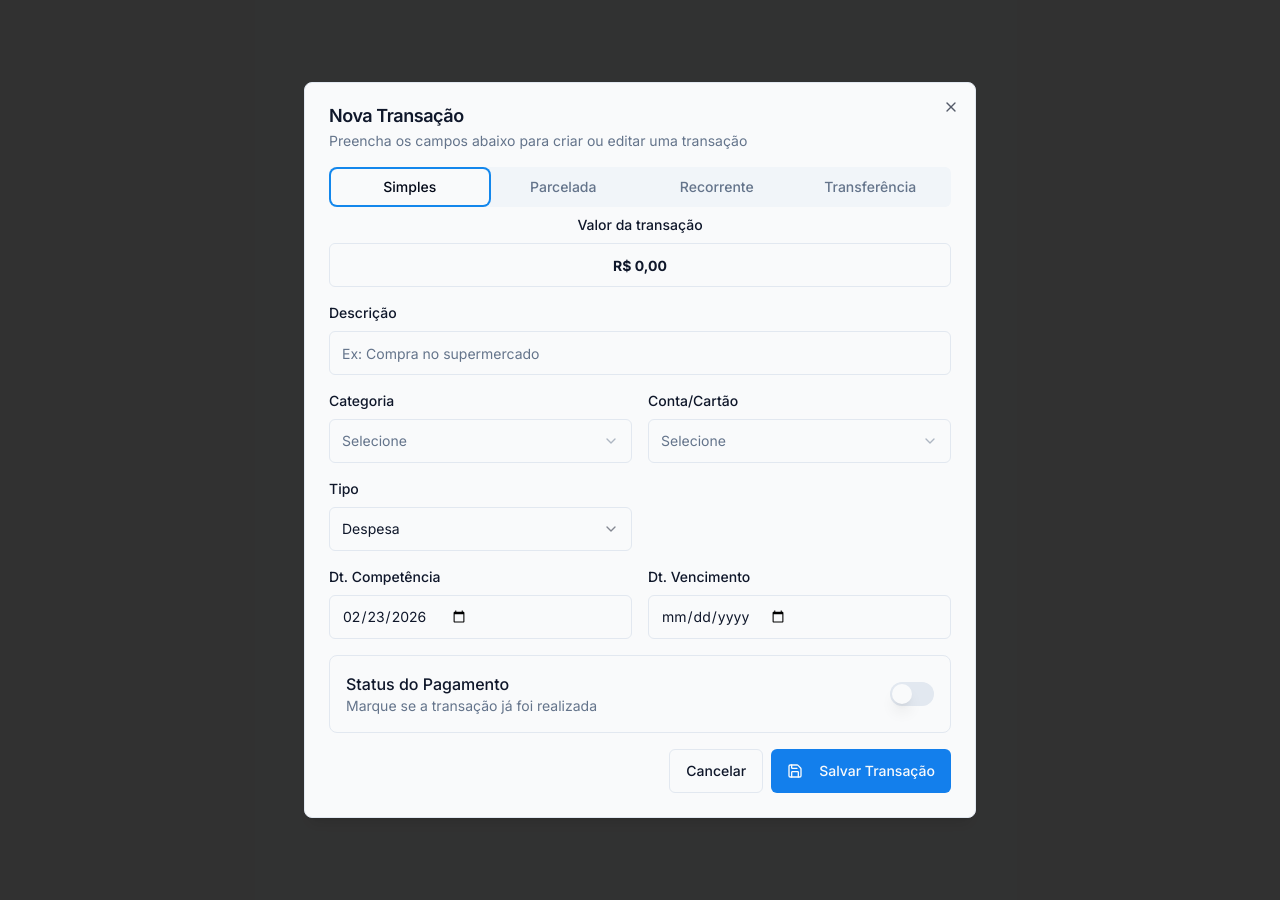
it: TransactionForm › Simple Transaction Form › forces paid status when selecting a credit card account
This screenshot has width=1280, height=900.
Click the dropdown named "conta/cartão": (693, 440) [648,419,951,463]
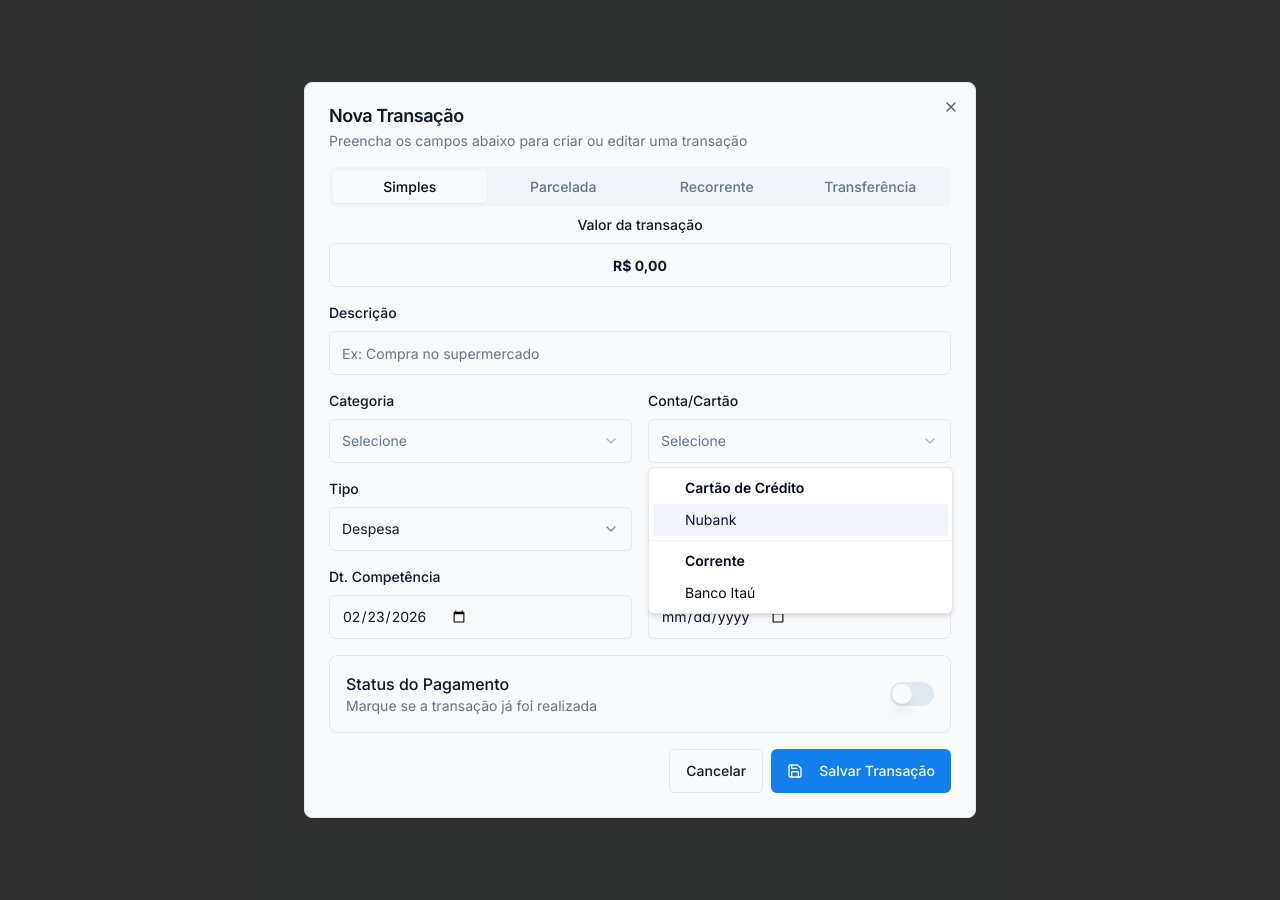
expect the option "Nubank" is shown: met
Click the option "Nubank": (711, 520) [653,504,948,536]
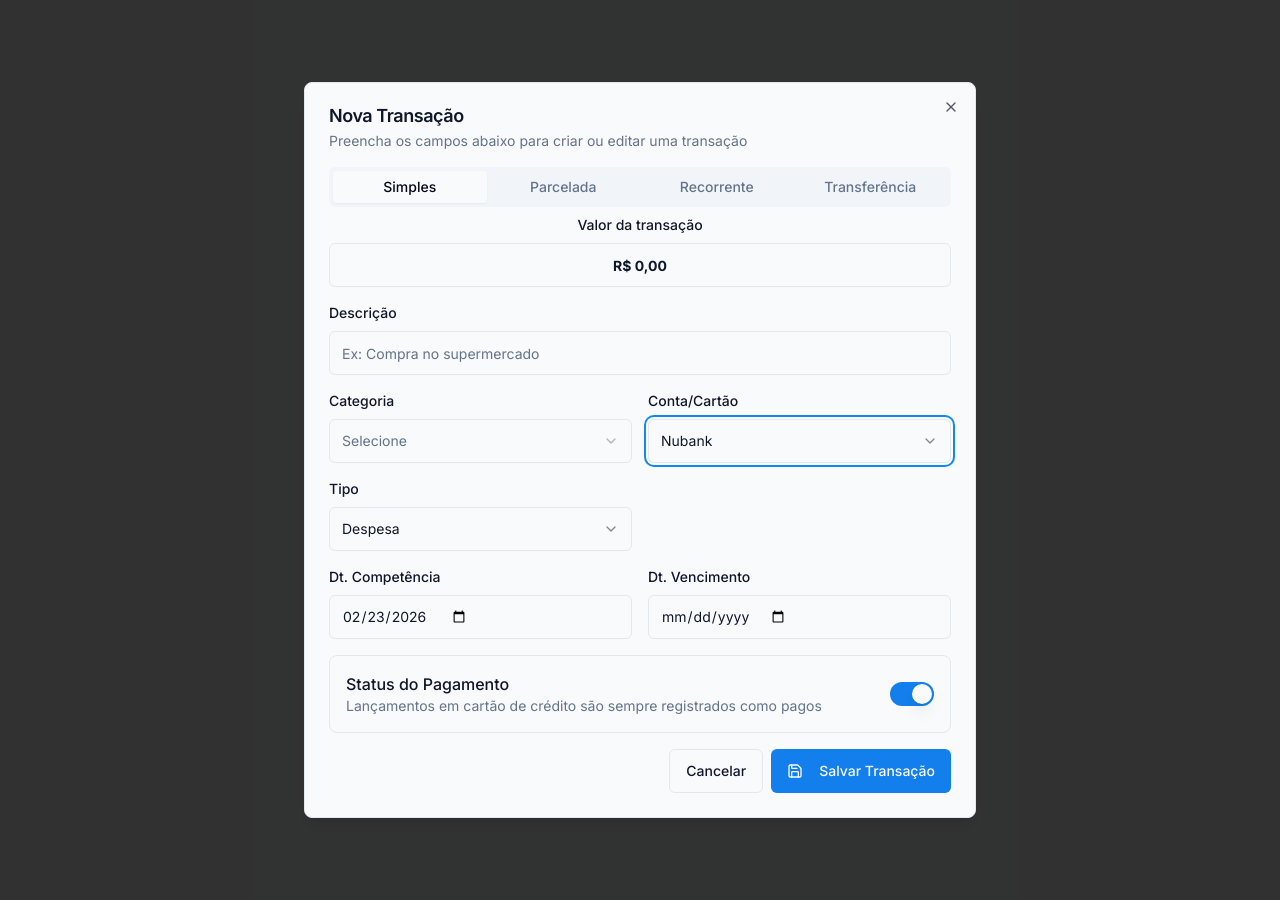
expect the switch is disabled: met, box [890,682,934,706]
